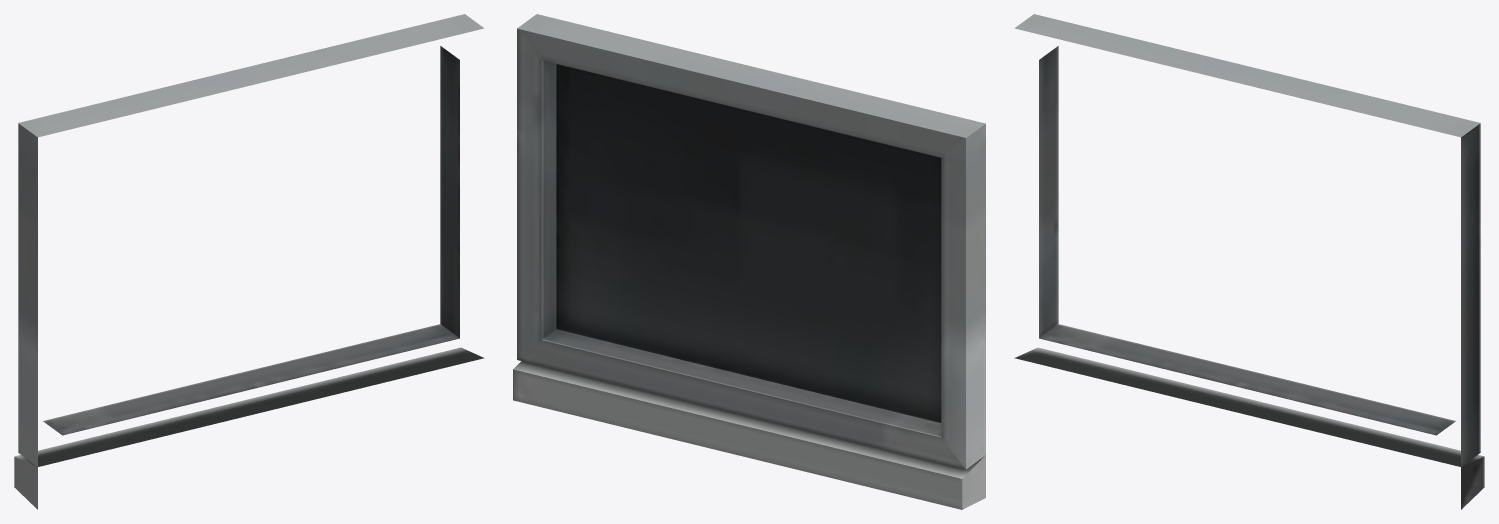
3 renders of one model, left to right at view 1: azimuth 30°, elevation 25°; view 2: azimuth 150°, elevation 25°; view 3: azimuth 330°, elevation 25°, orthographic.
Parts seen in each view (by area): view 1: body0_model0_lod0_mesh0; view 2: body0_model0_lod0_mesh0; view 3: body0_model0_lod0_mesh0.
Boxes of the visible parts, x1,y1,x2,y2 form: body0_model0_lod0_mesh0: (14,14,484,509); body0_model0_lod0_mesh0: (513,14,985,509); body0_model0_lod0_mesh0: (1014,14,1484,509).
Size of the model in its own units: 64.01 by 51 by 5.86.
Materials: 1 (1 with a texture image).
